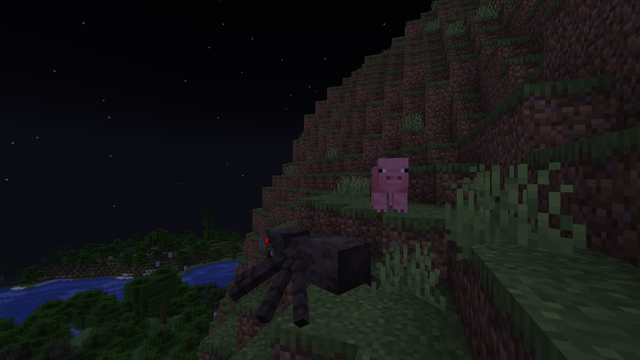araignees: (235, 219, 361, 322)
cochons: (362, 164, 410, 212)
